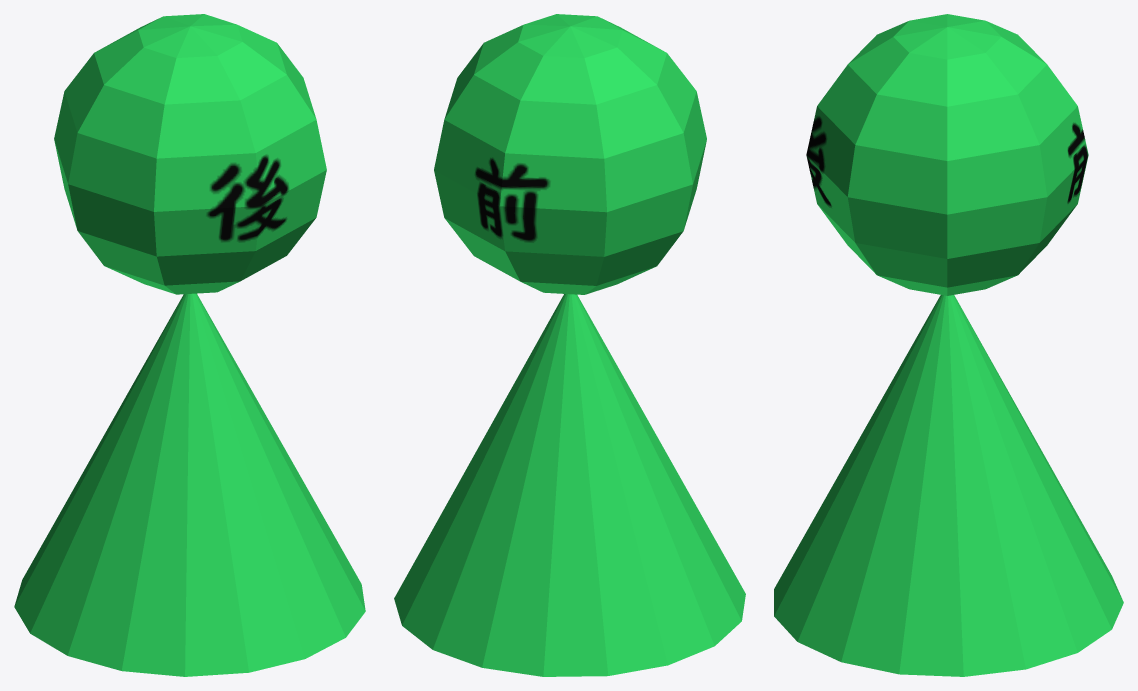
The model's file is TestObject.fbx.
3 renders of one model, left to right at view 1: azimuth 30°, elevation 25°; view 2: azimuth 150°, elevation 25°; view 3: azimuth 270°, elevation 25°, orthographic.
Parts seen in each view (by area): view 1: 円錐; view 2: 円錐; view 3: 円錐.
Boxes of the visible parts, x1,y1,x2,y2 form: 円錐: [14, 14, 365, 676]; 円錐: [394, 14, 745, 676]; 円錐: [774, 14, 1123, 676].
Bounding box in the file's own units: 0.9957 × 1.8 × 0.9915.
